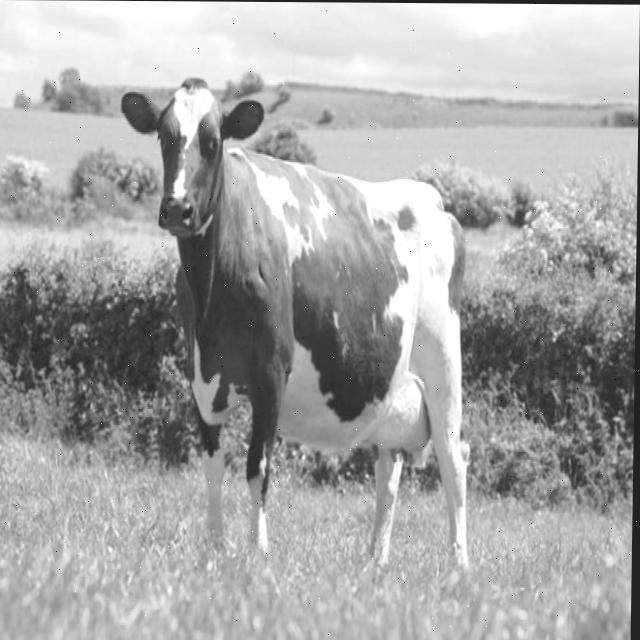Cow: (113, 73, 479, 577)
